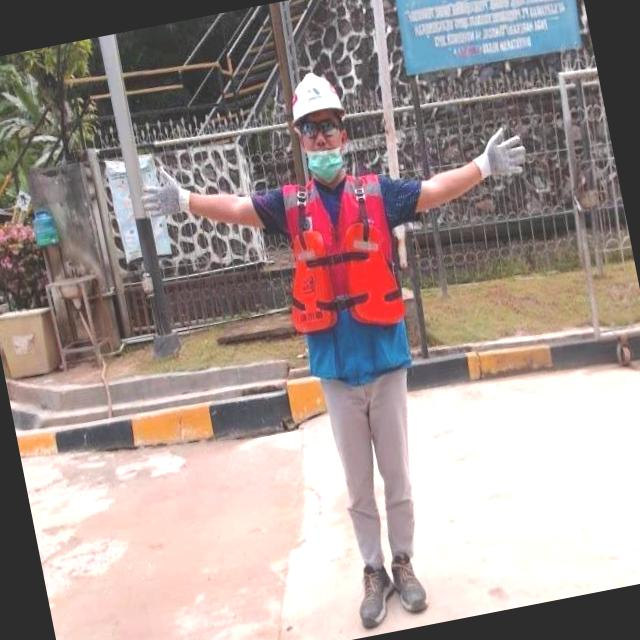vest: (268, 167, 417, 386)
